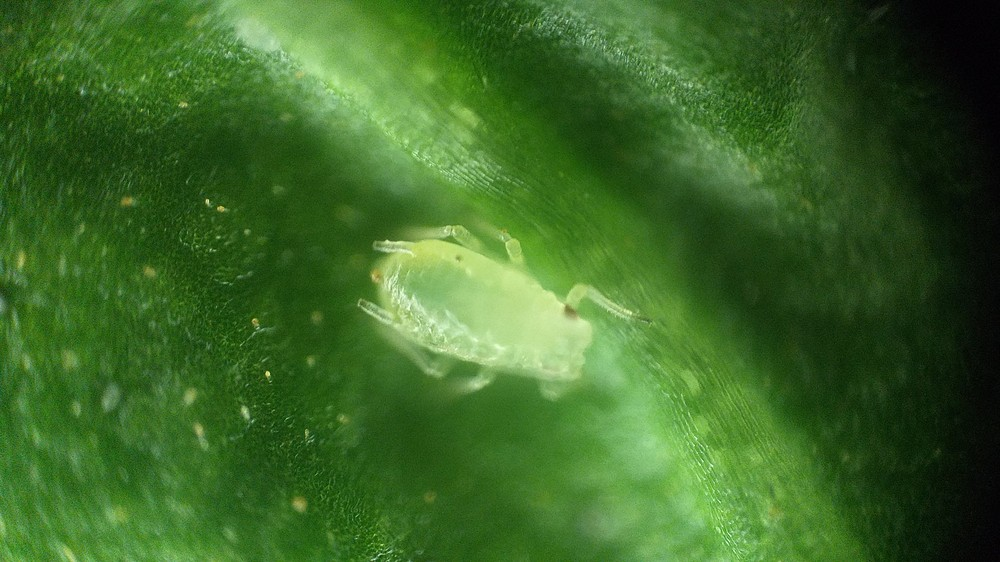Pulgon: (336, 211, 678, 429)
